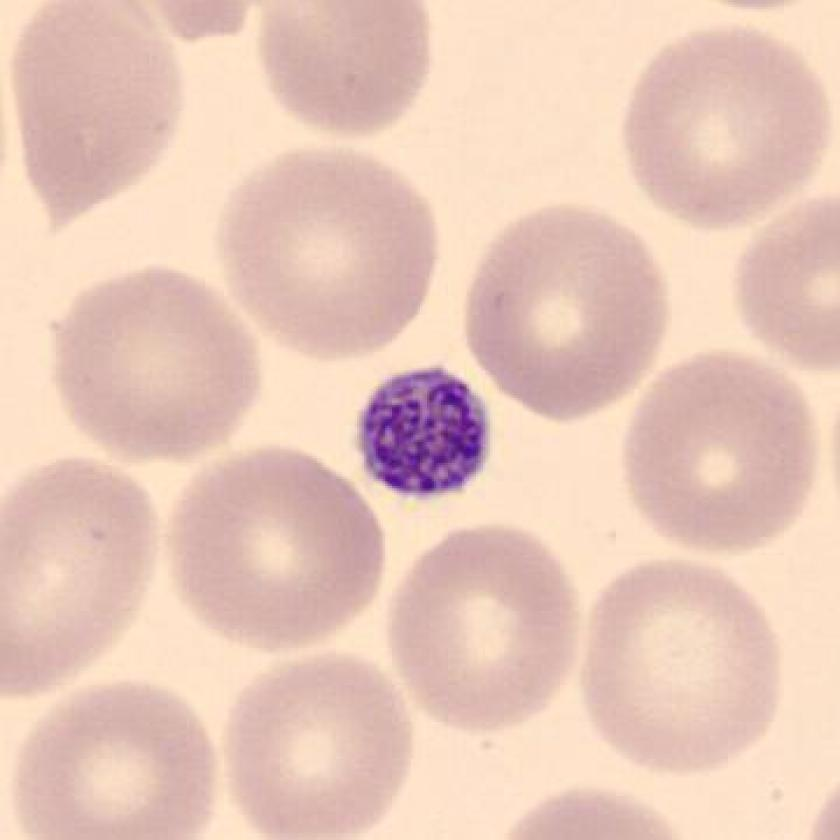platelets: (349, 351, 503, 513)
